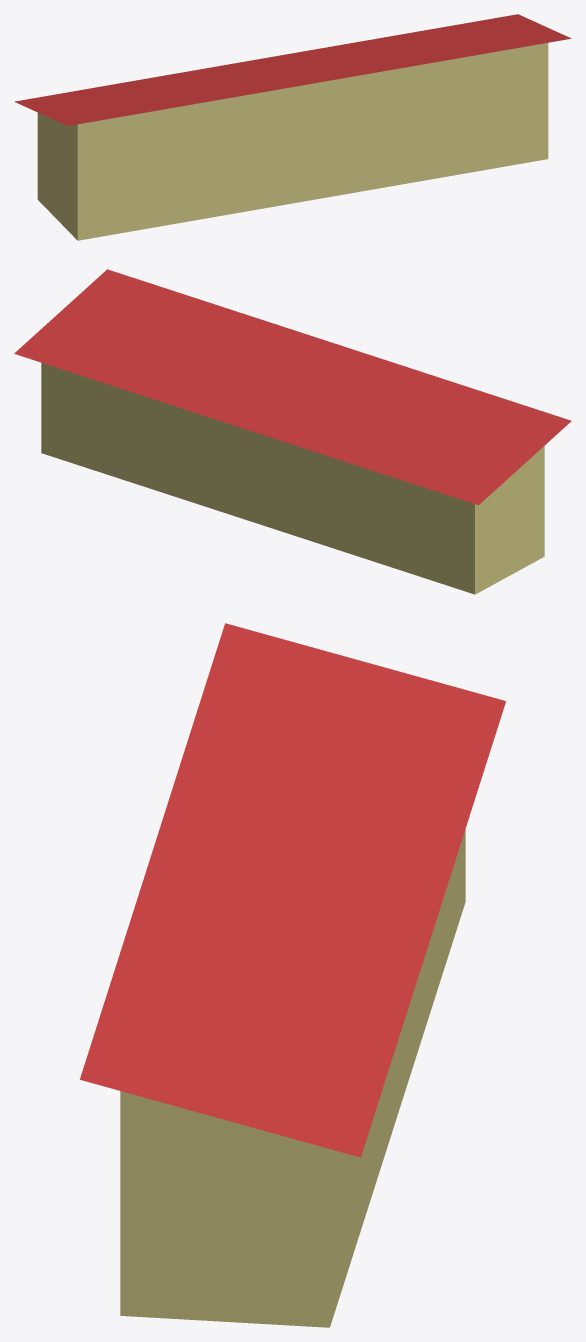
3 renders of one model, top to bottom at view 1: azimuth 30°, elevation 25°; view 2: azimuth 150°, elevation 25°; view 3: azimuth 270°, elevation 25°, orthographic. The views are drawn at different scales.
Size of the model in its own units: 31.02 by 11.83 by 7.63.
